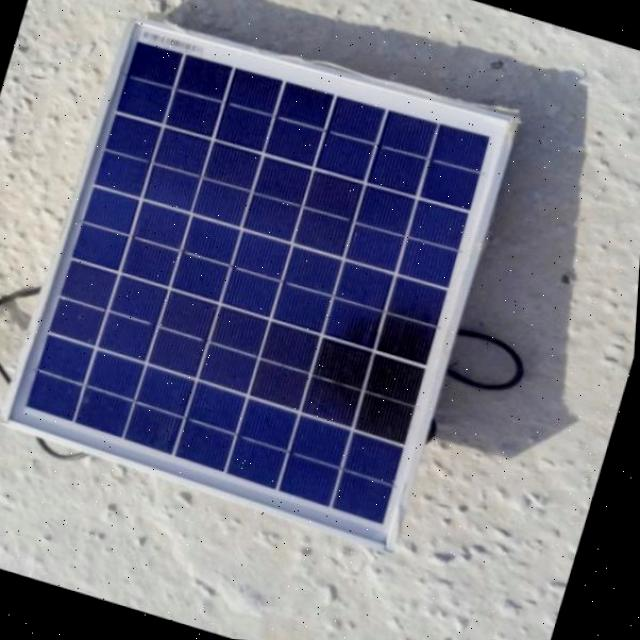Normal Solar Panel: (3, 6, 524, 560)
